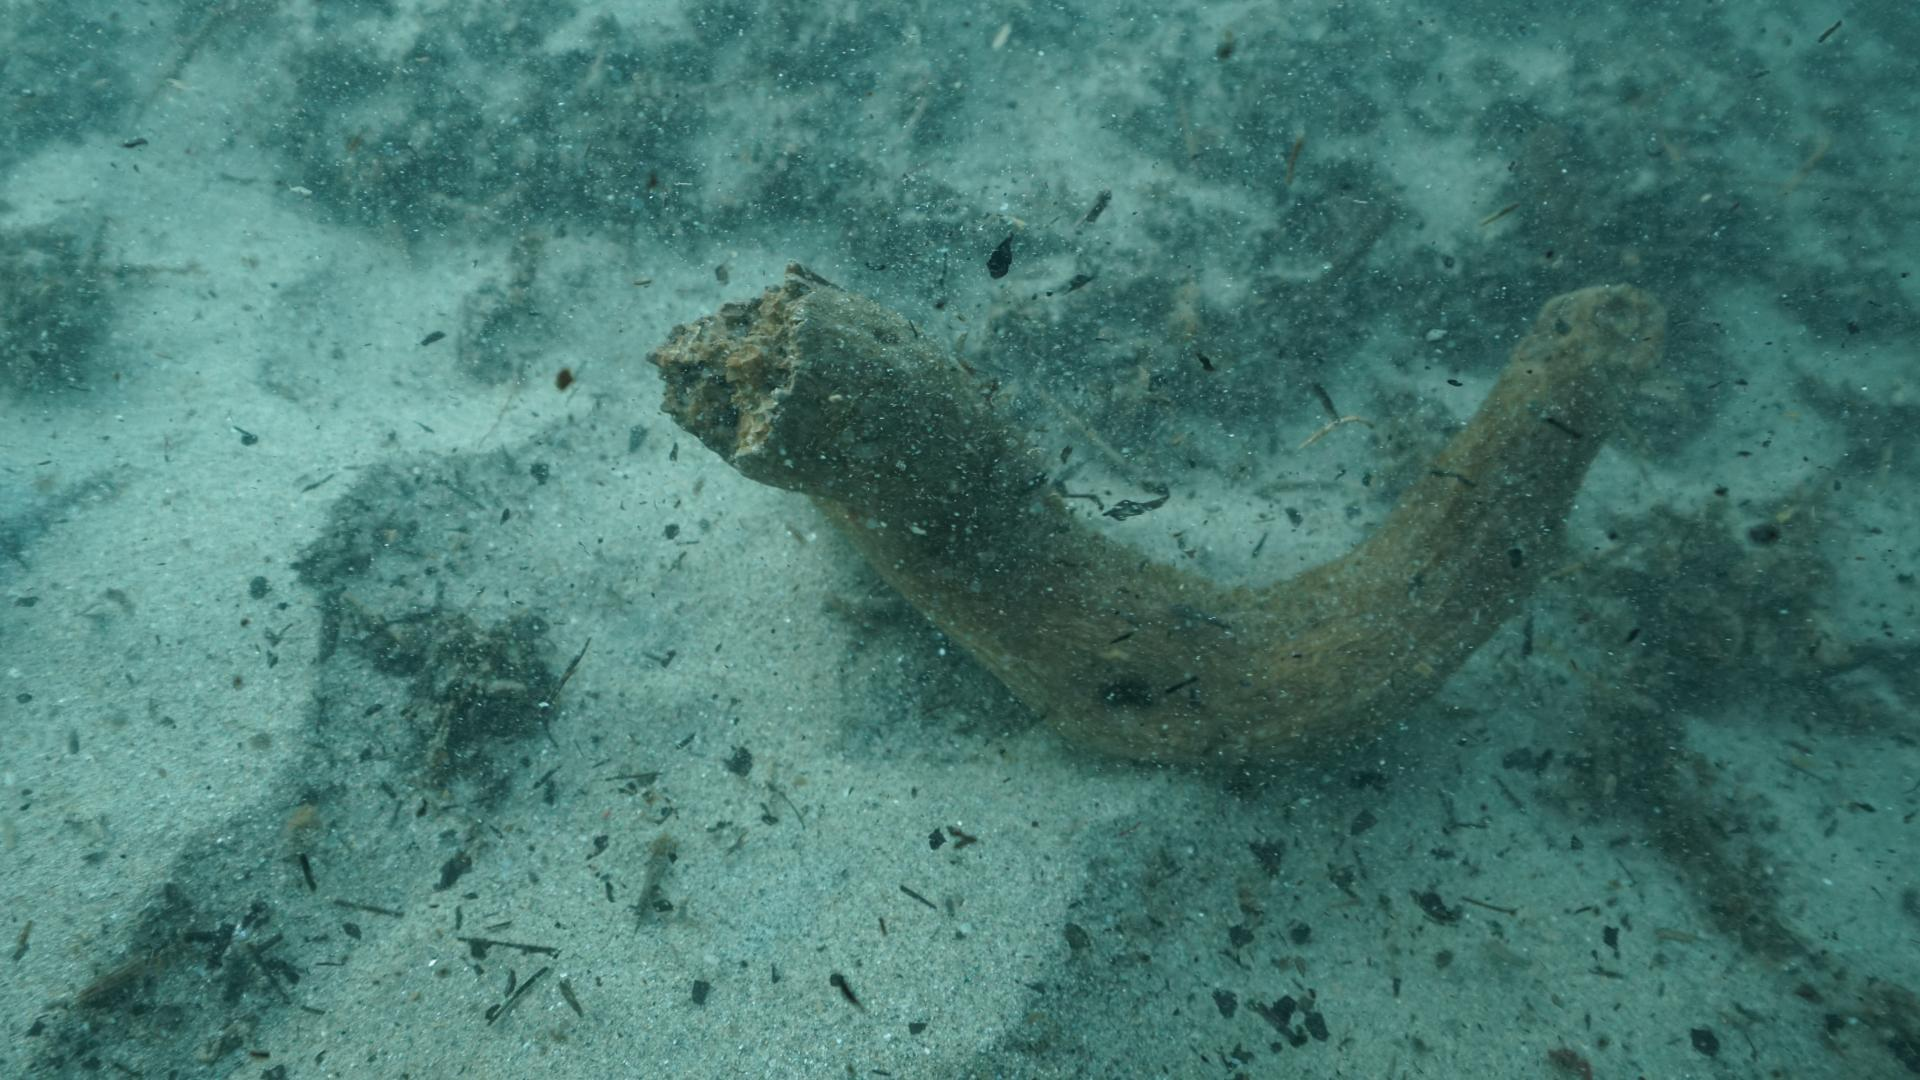wood: (651, 262, 1664, 781)
